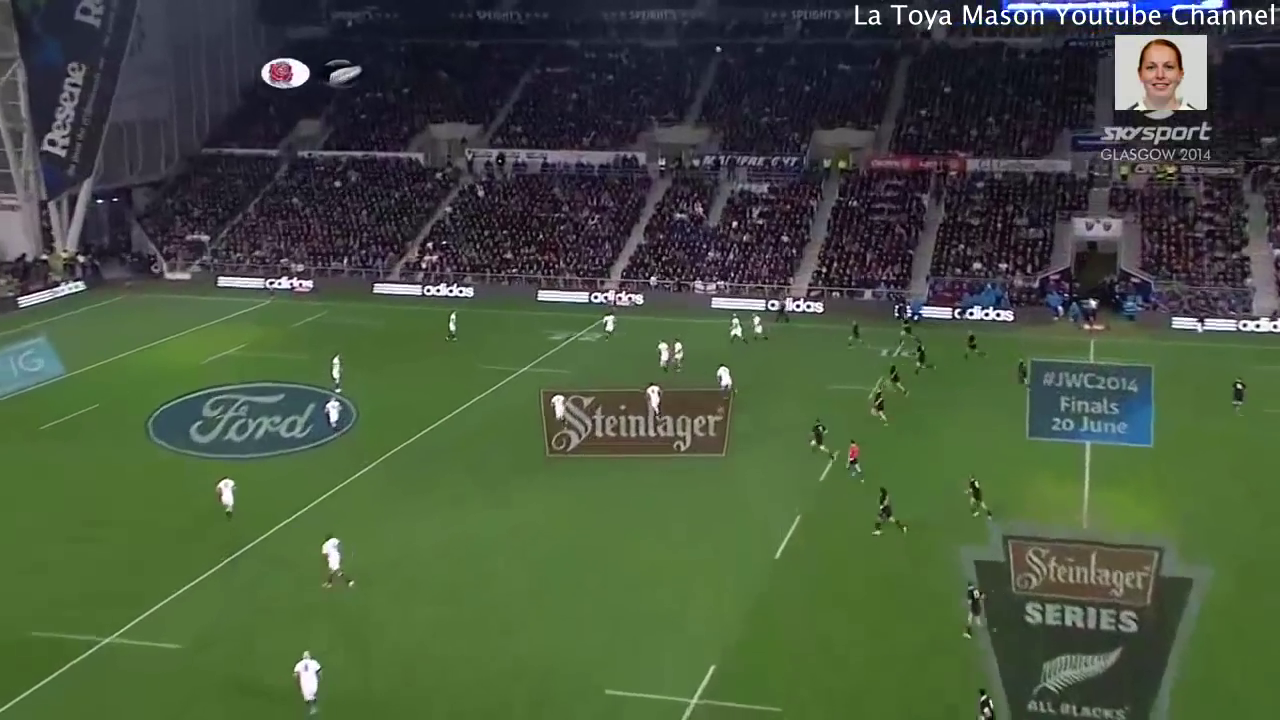10_metre: (588, 658, 790, 720), (817, 370, 915, 399), (852, 334, 937, 366)
player: (309, 526, 363, 600), (285, 643, 333, 720), (866, 481, 913, 539), (958, 471, 997, 525), (804, 409, 839, 469), (955, 576, 987, 639), (210, 472, 246, 527), (543, 388, 577, 436), (862, 384, 892, 430), (317, 392, 349, 435), (841, 435, 867, 487), (1009, 354, 1038, 398), (642, 376, 669, 423), (910, 334, 938, 379), (885, 359, 912, 402), (713, 357, 739, 401), (960, 327, 989, 366), (324, 348, 349, 393), (665, 325, 687, 374), (723, 309, 751, 347), (746, 302, 770, 345), (842, 318, 870, 354), (438, 308, 465, 344), (895, 311, 920, 346), (652, 334, 672, 373), (601, 312, 618, 344)
